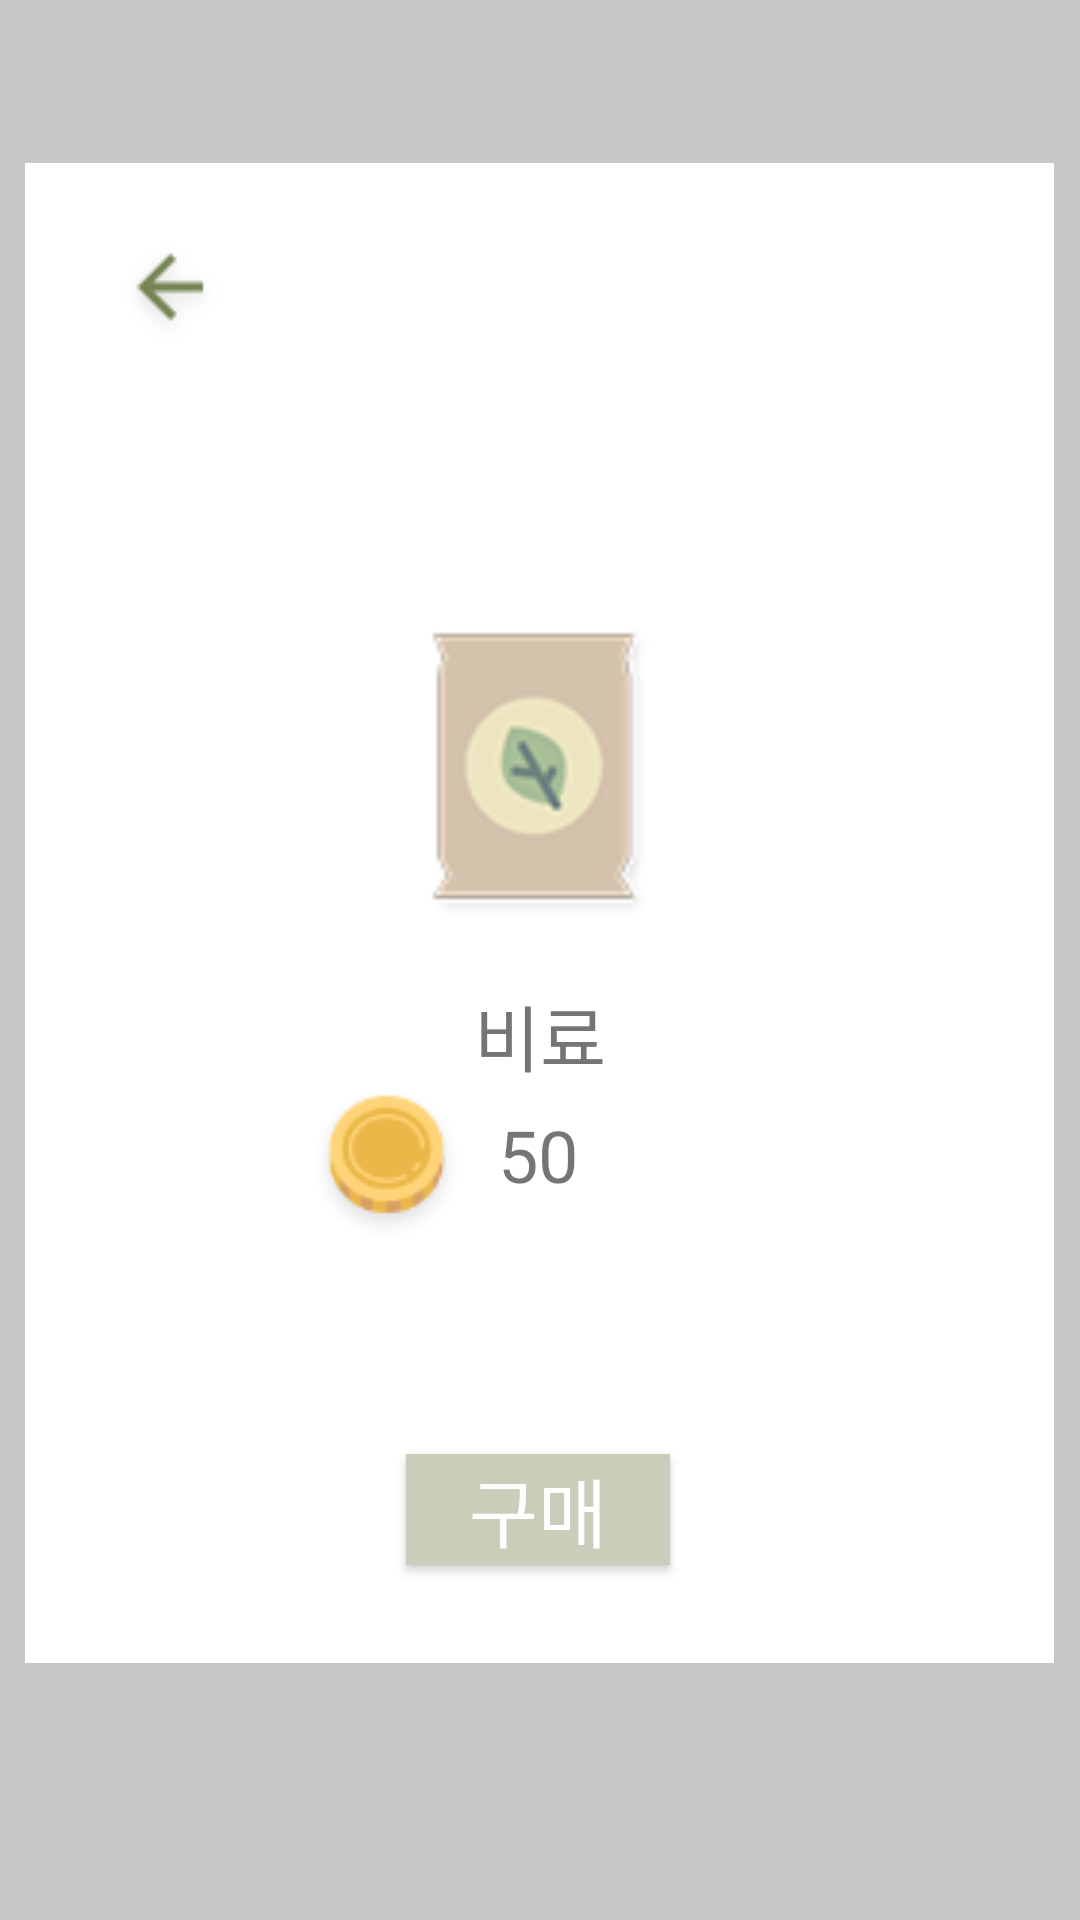

Icons on this 1080px×1920px Android screen, each with its box as region(x1, y1, x2, y2):
backward arrow: region(136, 253, 204, 321)
coin: region(327, 1095, 446, 1215)
fertilizer: region(433, 633, 635, 900)
